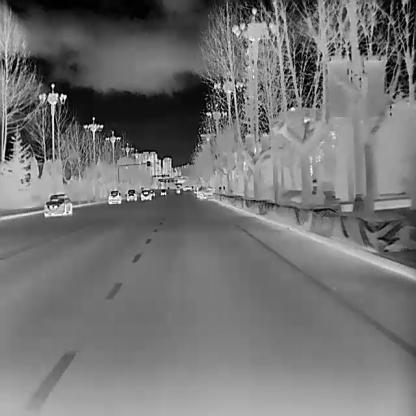car: (43, 193, 72, 216), (107, 189, 122, 205), (196, 186, 214, 199), (126, 188, 137, 201), (140, 189, 151, 201), (149, 189, 155, 197), (160, 189, 166, 195)
